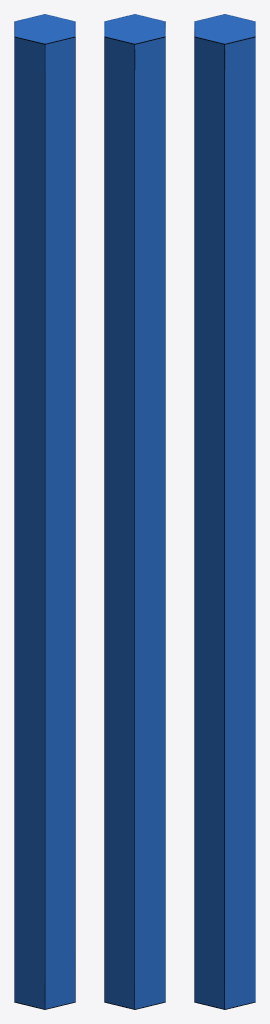
File: world6.obj
3 renders of one model, left to right at view 1: azimuth 30°, elevation 25°; view 2: azimuth 150°, elevation 25°; view 3: azimuth 330°, elevation 25°, orthographic.
Parts seen in each view (by area): view 1: 円; view 2: 円; view 3: 円.
Boxes of the visible parts, x1,y1,x2,y2 form: 円: (14, 14, 75, 1009); 円: (104, 14, 165, 1009); 円: (194, 14, 255, 1009).
Size of the model in its own units: 0.5 by 7.5 by 0.433.
Materials: 1 (1 with a texture image).
